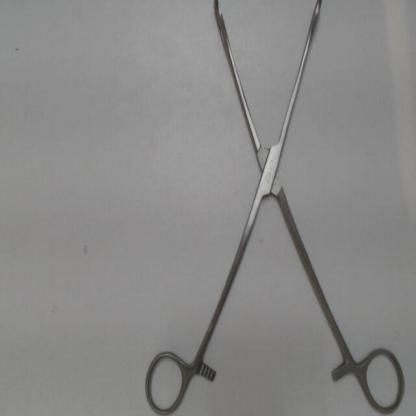Sponge Forceps: (135, 0, 408, 414)
